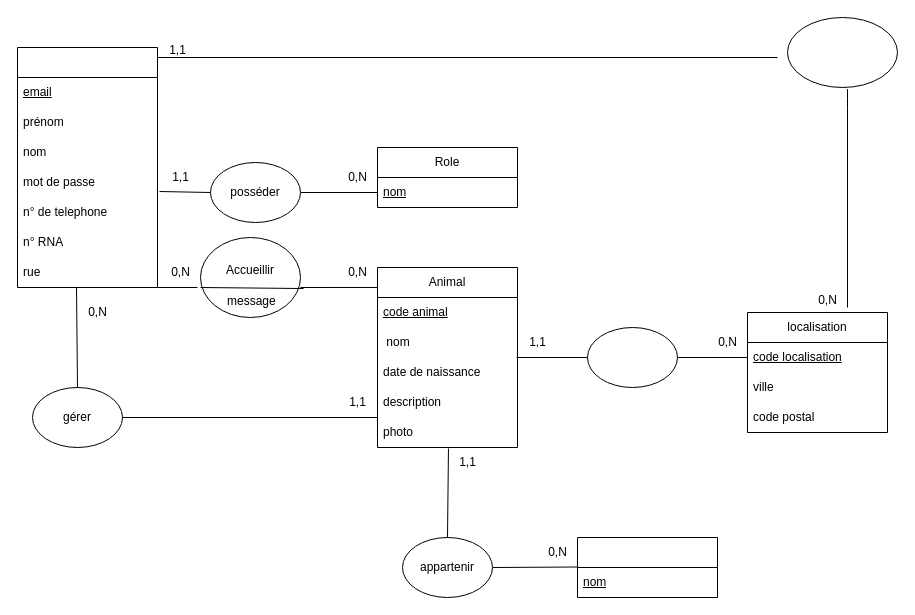
The diagram is 915 pixels wide and 615 high, and some of its shapes have lost their labels. The shapes that lost their labels are listed below. From the top down, each one's box as (x1, y1, x2, y2) in pixels, then its label:
(786, 16, 898, 88): avoir
(16, 46, 158, 288): Utilisateur
(586, 326, 678, 388): se trouver
(576, 536, 718, 598): Espèce
